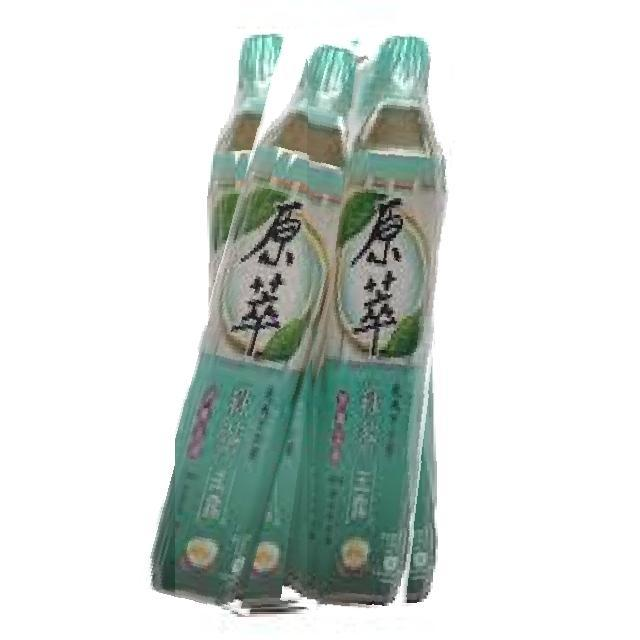YuanTsui_GreenTea: (175, 29, 362, 614), (307, 27, 449, 617)
